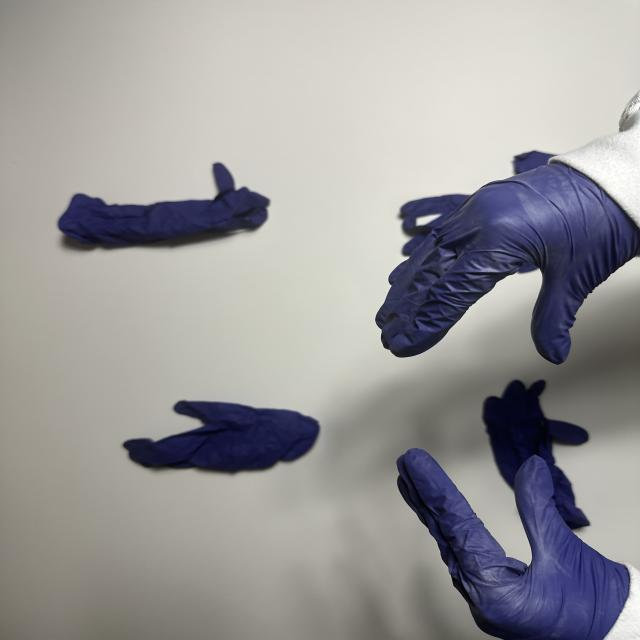gloves_contaminated: (376, 164, 640, 364), (397, 449, 631, 640)
